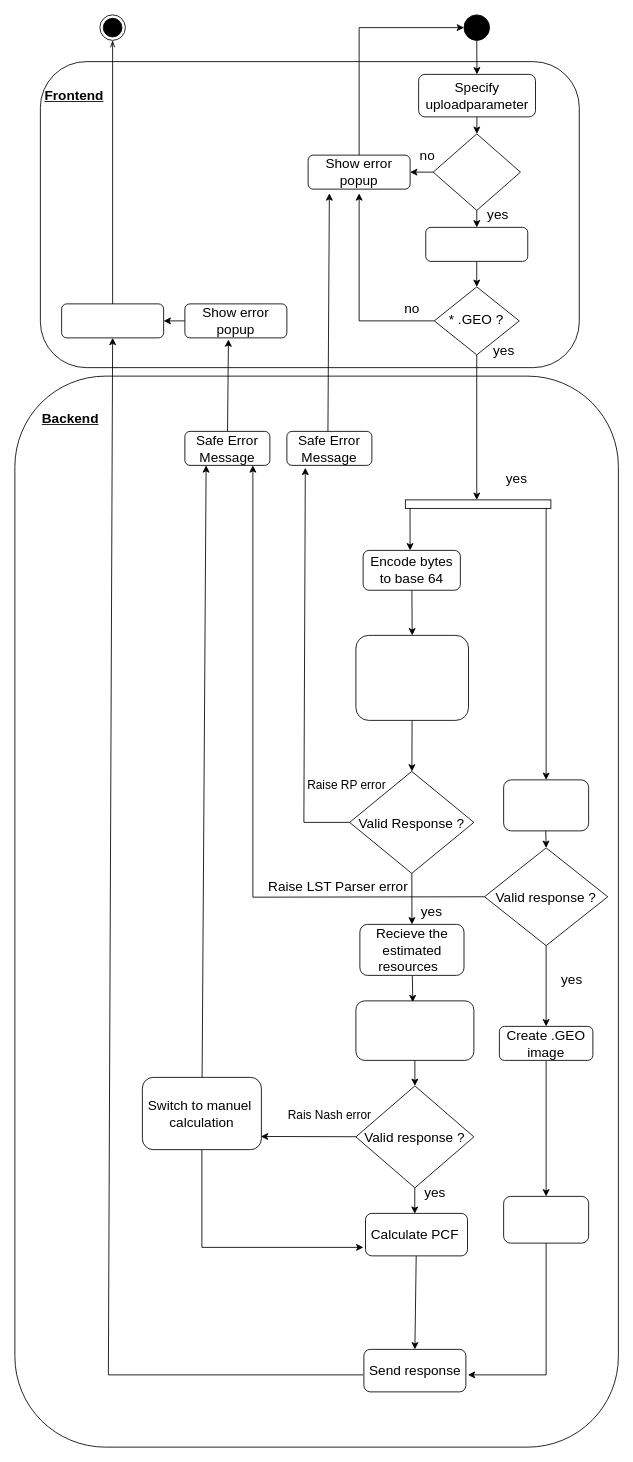
The diagram is 633 pixels wide and 1462 high, and some of its shapes have lost their labels. Here are the shapes that lost their labels. From the top down, the centre of each, then its label:
At (476,171): "all parameters set ?".
At (476,244): "Upload file".
At (112,320): "Show PCF report".
At (412,677): "Send encoded bytes to Resource Predicition Service (RP)".
At (546,805): "Send .GEO to LST Parser".
At (414,1030): "Send energy(kwh) to NASH Service".
At (546,1219): "Encode image to base 64".
